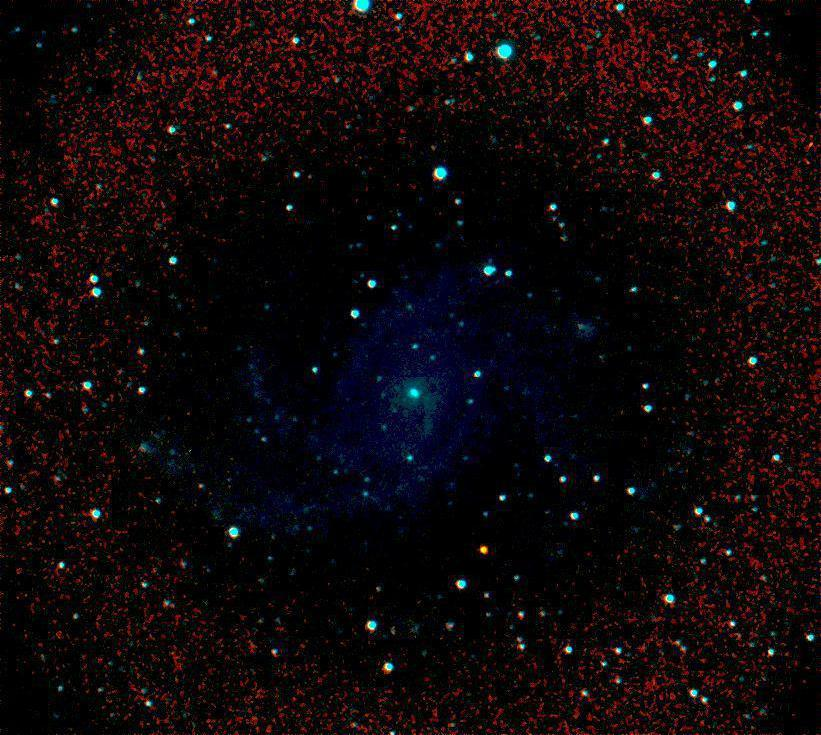star: (470, 537, 500, 567)
